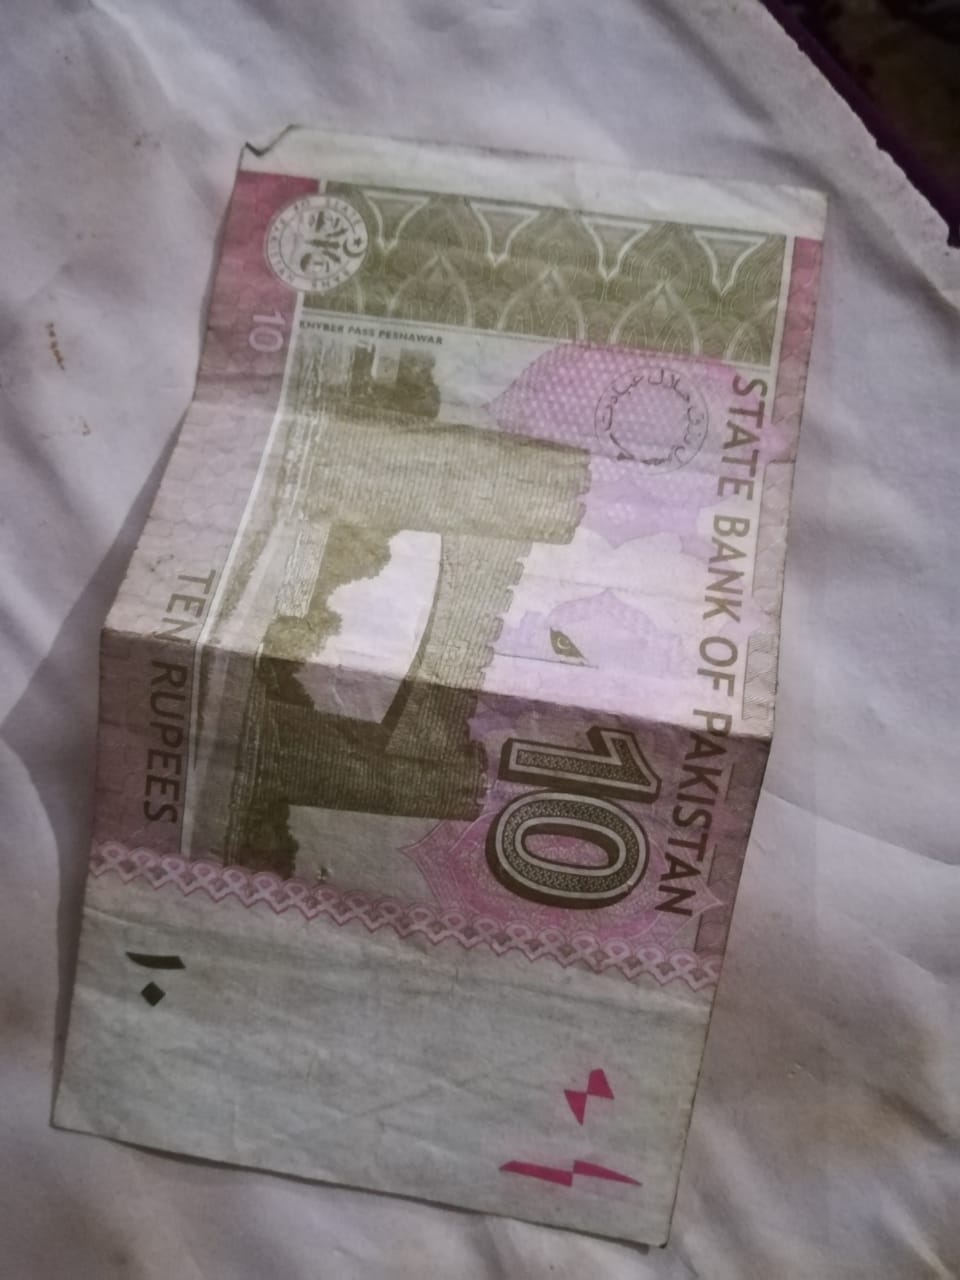10 rupee: (55, 125, 839, 1261)
